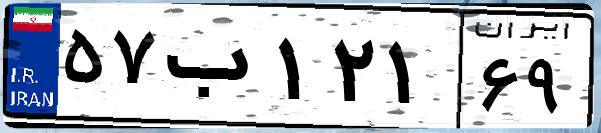1: (270, 28, 330, 110), (385, 28, 445, 110)
2: (330, 28, 385, 110)
5: (57, 26, 110, 100)
6: (475, 38, 525, 113)
7: (110, 28, 158, 98)
9: (525, 38, 570, 115)
ب: (158, 20, 270, 120)
